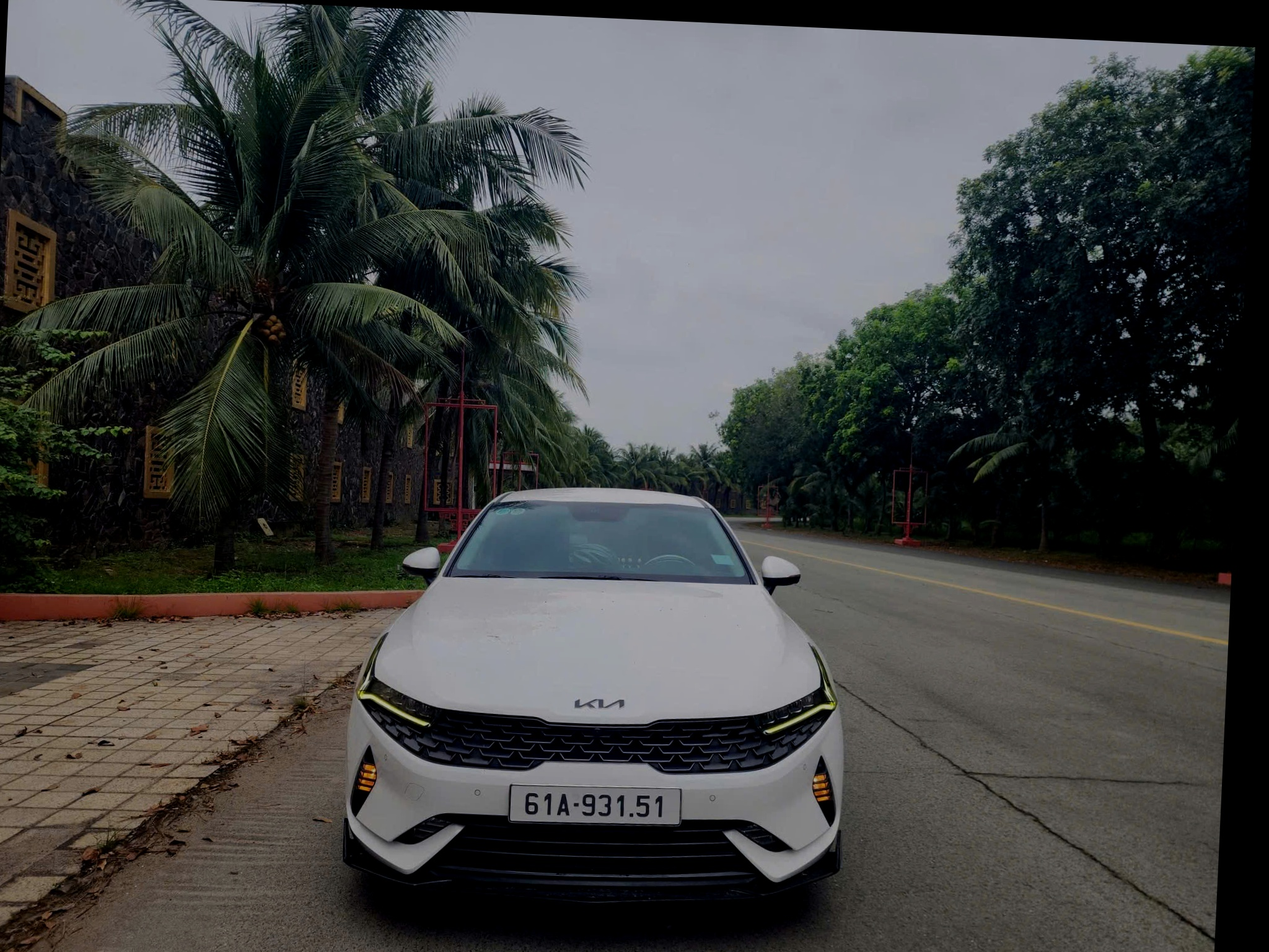Bien-so: (573, 750, 752, 799)
